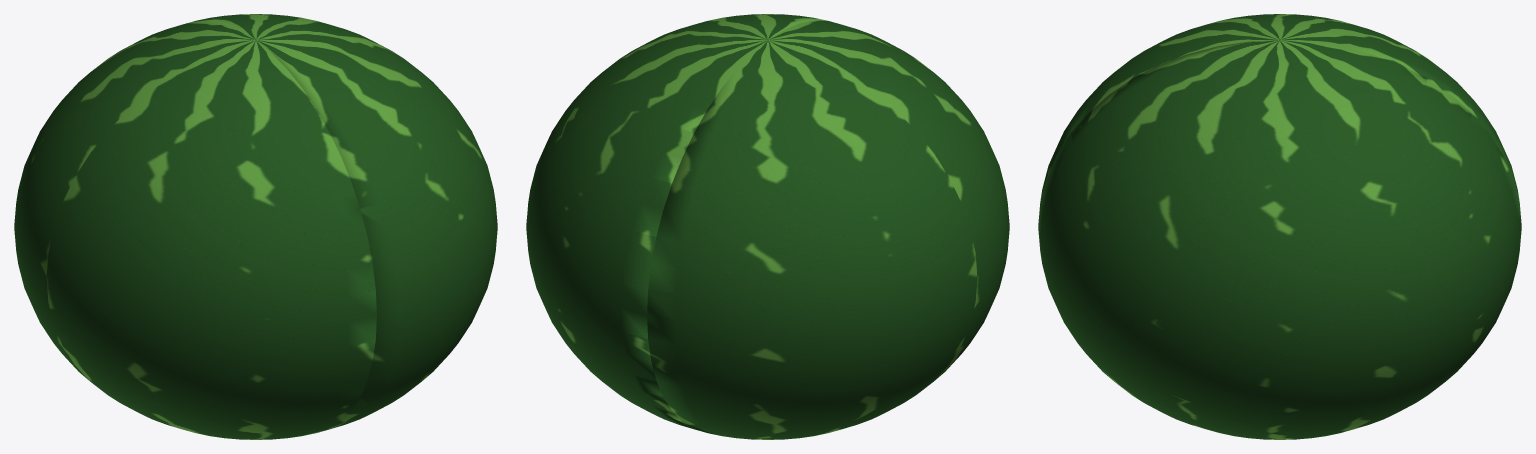
Rendered from watermelon_halves.fbx.
3 views of the same model, side by side, from view 1: azimuth 30°, elevation 25°; view 2: azimuth 150°, elevation 25°; view 3: azimuth 270°, elevation 25° (orthographic).
Visible parts, largest first — view 1: melon_half_R, melon_half_L; view 2: melon_half_R, melon_half_L; view 3: melon_half_L, melon_half_R.
Boxes of the visible parts, <box> form: melon_half_R: <box>14,20,376,439</box>; melon_half_L: <box>197,14,497,430</box>; melon_half_R: <box>647,20,1009,439</box>; melon_half_L: <box>526,14,826,430</box>; melon_half_L: <box>1038,40,1521,439</box>; melon_half_R: <box>1040,14,1519,201</box>.
Size of the model in its own units: 0.34 by 0.29 by 0.34.
3 materials, 1 textured.
